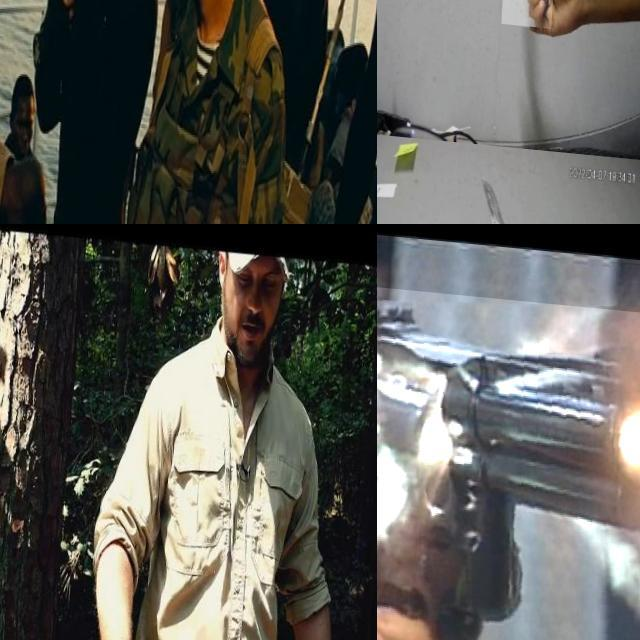-: (503, 0, 562, 97), (472, 161, 544, 224)
gun-knife-thesis - v11 Yolov5 augmented: (377, 278, 640, 640), (0, 0, 58, 224)
